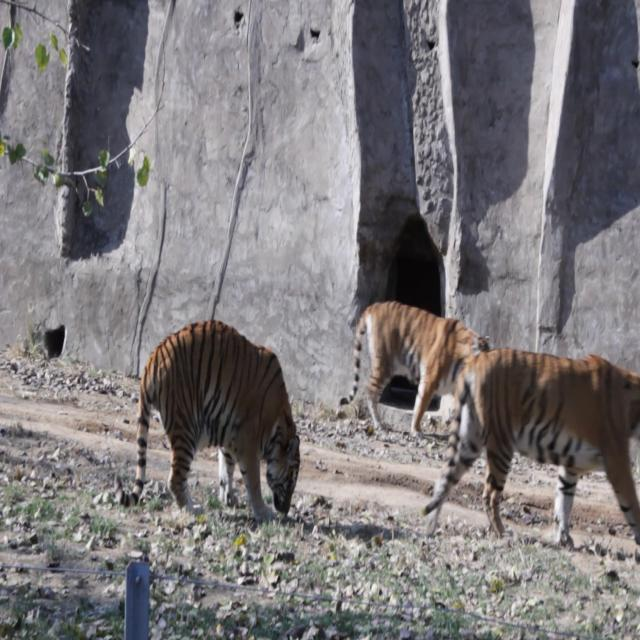Tiger: (424, 346, 640, 562), (111, 318, 301, 528), (336, 301, 488, 443)
